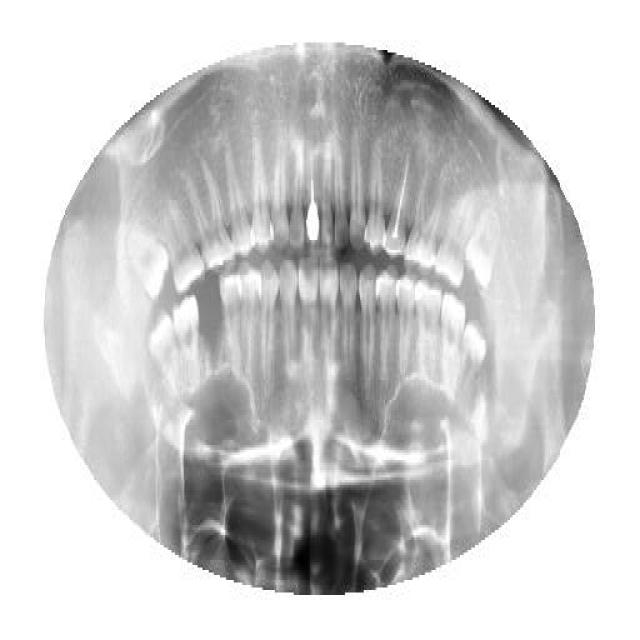Impacted Tooth: (126, 212, 170, 302)
Implant: (382, 140, 412, 255), (304, 155, 321, 245)
